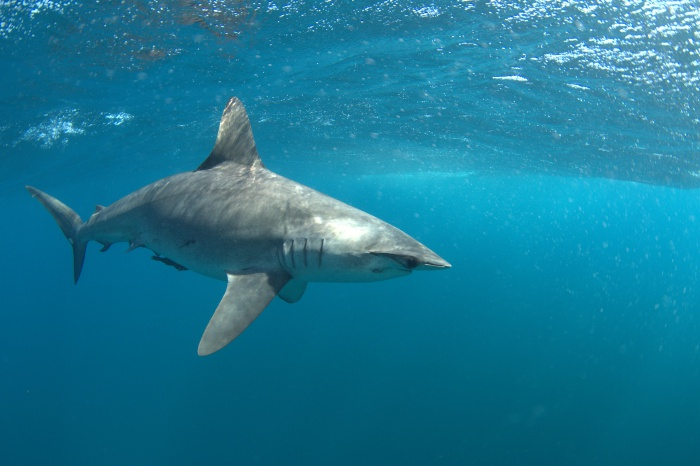Hammer: (24, 91, 452, 365)
